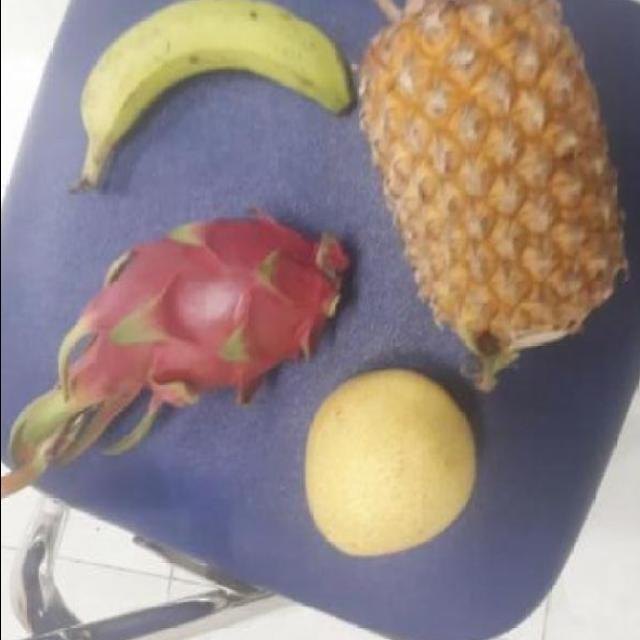banana: (80, 1, 344, 174)
dragon fruit: (77, 192, 347, 435)
pear: (296, 369, 484, 557)
pineapple: (352, 0, 622, 361)
